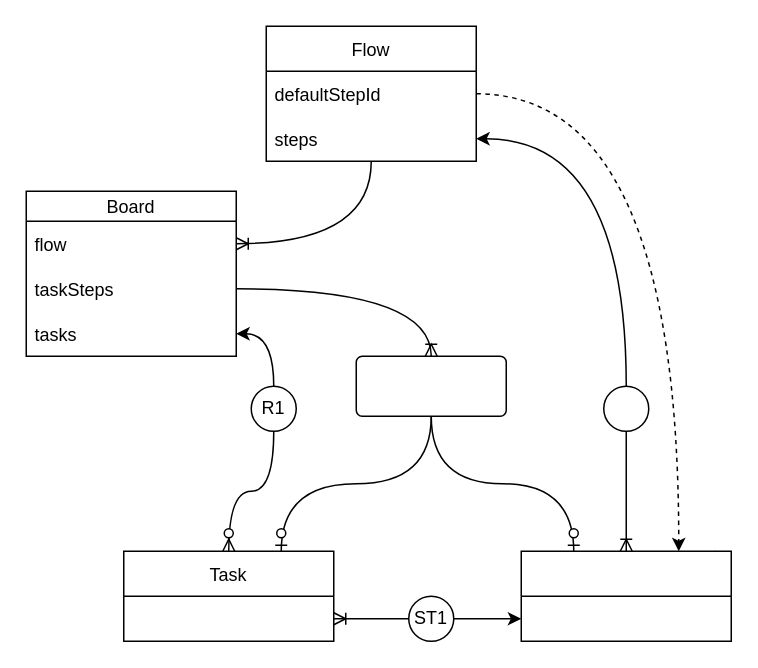
This 758x668 diagram has some shape labels left out. The shapes that lost their labels are listed below. From the top down, each one's box as (x1, y1, x2, y2) in pixels, then its label:
(355, 355, 506, 416): Task - FlowStep
(602, 385, 649, 431): R2
(520, 550, 731, 641): FlowStep
